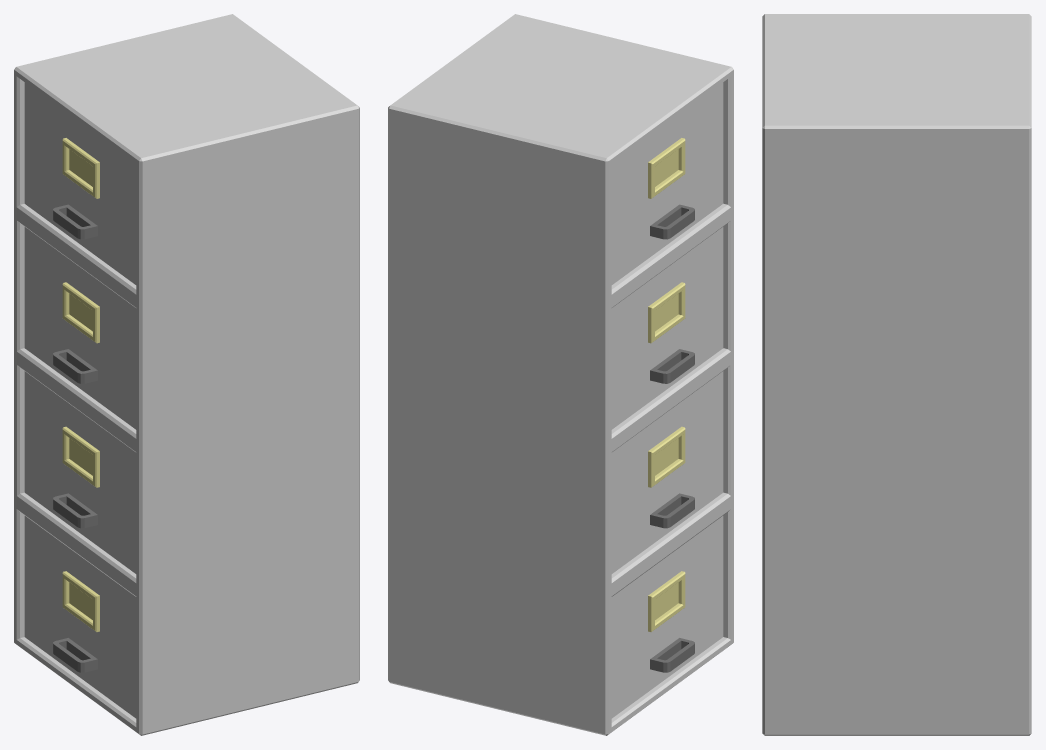
The model's file is filingCabinet.fbx.
The picture shows the model from 3 angles, left to right: view 1: azimuth 30°, elevation 25°; view 2: azimuth 150°, elevation 25°; view 3: azimuth 270°, elevation 25°; orthographic projection. The views are drawn at different scales.
Parts seen in each view (by area): view 1: Cube; view 2: Cube; view 3: Cube.
Boxes of the visible parts, x1,y1,x2,y2 form: Cube: (14, 14, 359, 735); Cube: (388, 14, 733, 735); Cube: (762, 14, 1031, 735).
Size of the model in its own units: 105 by 250 by 100.
